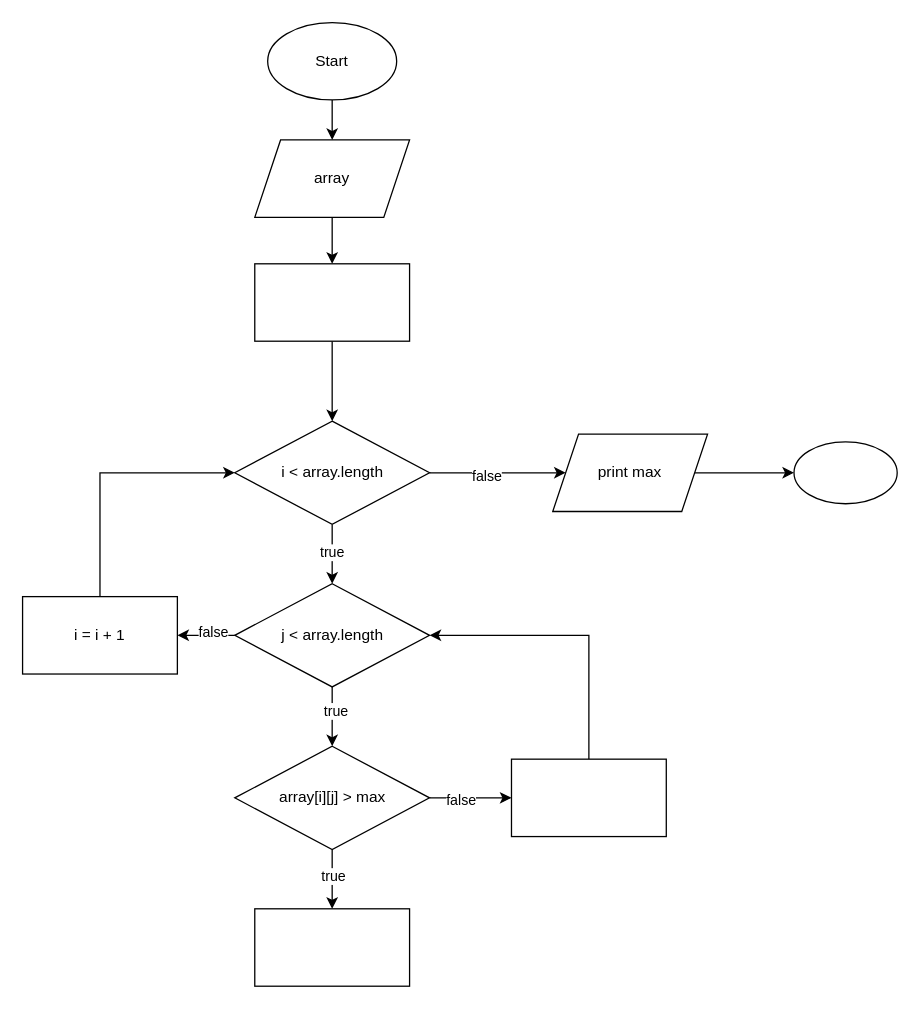
Some shapes in this 920 by 1009 pixel diagram are drawn without their labels. Here are the shapes that lost their labels. From the top down, the centre of each, then its label:
the point at 331,302: max = array[0][0] i = 0 j = 0
the point at 845,472: End
the point at 588,797: j = j + 1
the point at 331,947: max = array[i][j]
